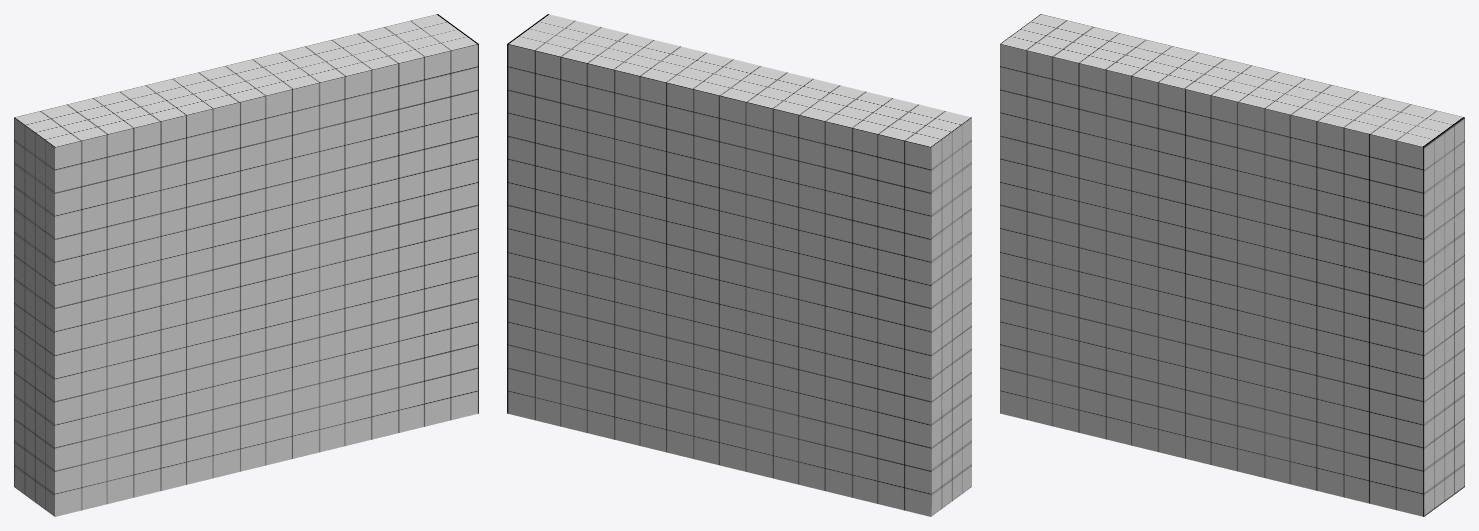
File: Dark_Wall__LongSide.fbx
3 renders of one model, left to right at view 1: azimuth 30°, elevation 25°; view 2: azimuth 150°, elevation 25°; view 3: azimuth 330°, elevation 25°, orthographic.
Visible parts, largest first — view 1: Light_Wall.003; view 2: Light_Wall.003; view 3: Light_Wall.003.
Boxes of the visible parts, x1,y1,x2,y2 form: Light_Wall.003: (14, 14, 478, 516); Light_Wall.003: (507, 14, 971, 516); Light_Wall.003: (1000, 14, 1464, 516).
Size of the model in its own units: 180 by 150 by 30.
1 material, 1 textured.
